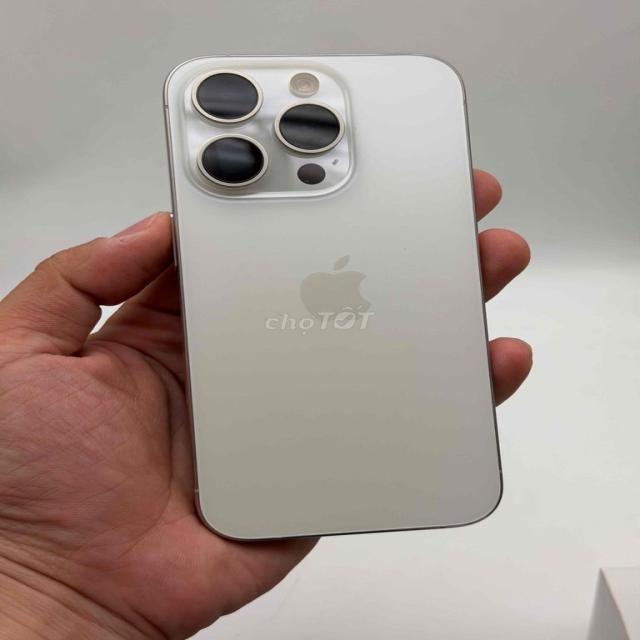gen_15: (155, 48, 520, 544)
